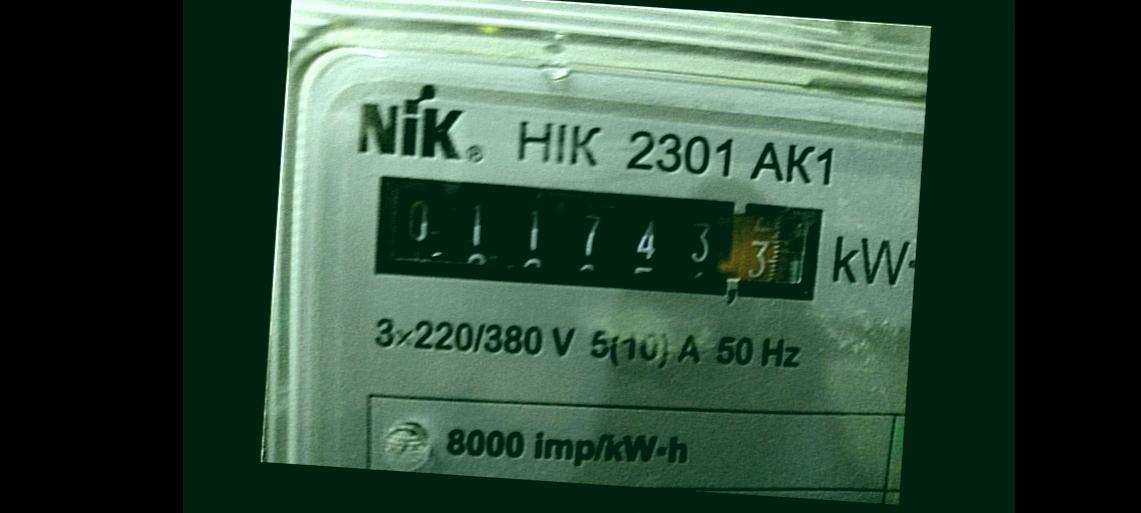0: (405, 200, 437, 248)
1: (525, 209, 549, 258), (470, 205, 490, 254)
3: (688, 222, 720, 270), (748, 240, 774, 285)
4: (635, 217, 666, 267)
7: (581, 214, 608, 264)
screen: (360, 169, 833, 318)
